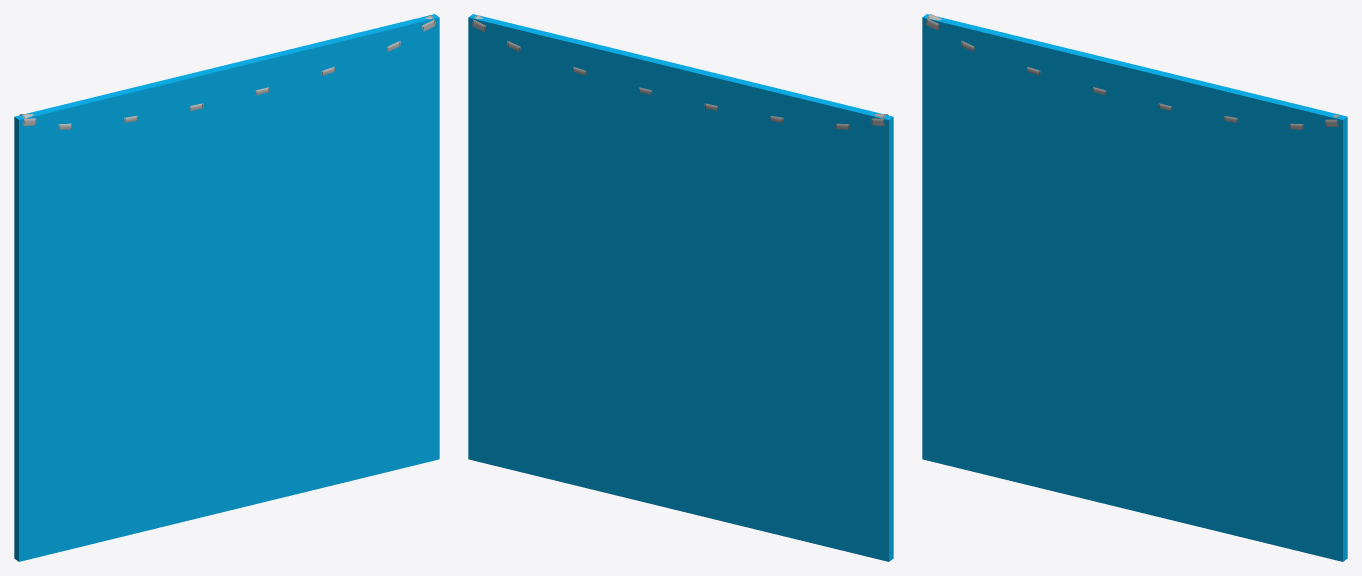
File: JWC_Camp_Jinmaku_A_01_x2.fbx
3 renders of one model, left to right at view 1: azimuth 30°, elevation 25°; view 2: azimuth 150°, elevation 25°; view 3: azimuth 330°, elevation 25°, orthographic.
Parts seen in each view (by area): view 1: C_JWC_Camp_Jinmaku_A_01_x2, JWC_Camp_Jinmaku_A_01_x2; view 2: C_JWC_Camp_Jinmaku_A_01_x2, JWC_Camp_Jinmaku_A_01_x2; view 3: C_JWC_Camp_Jinmaku_A_01_x2, JWC_Camp_Jinmaku_A_01_x2.
Part boxes in pixels (<box>): C_JWC_Camp_Jinmaku_A_01_x2: <box>14,14,439,561</box>; JWC_Camp_Jinmaku_A_01_x2: <box>19,15,435,129</box>; C_JWC_Camp_Jinmaku_A_01_x2: <box>468,14,893,561</box>; JWC_Camp_Jinmaku_A_01_x2: <box>472,15,888,129</box>; C_JWC_Camp_Jinmaku_A_01_x2: <box>922,14,1347,561</box>; JWC_Camp_Jinmaku_A_01_x2: <box>926,14,1341,129</box>.
Size of the model in its own units: 2 by 2.02 by 0.0469.
